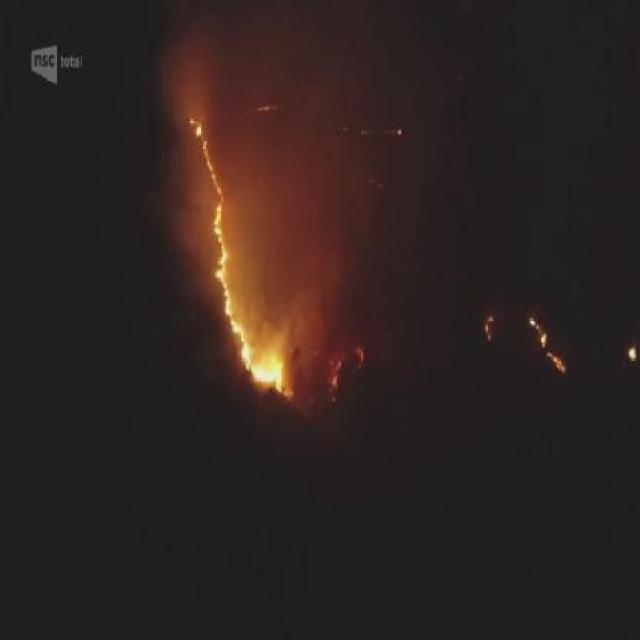Fire: (192, 113, 232, 216), (243, 332, 305, 388), (206, 222, 232, 302), (542, 348, 567, 376), (221, 309, 244, 331), (530, 311, 548, 338), (328, 362, 341, 389), (627, 338, 638, 360), (486, 316, 494, 342), (356, 345, 364, 363)
